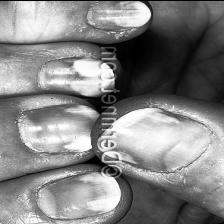Toxin: (107, 111, 205, 170), (41, 172, 120, 222), (38, 54, 110, 96)
